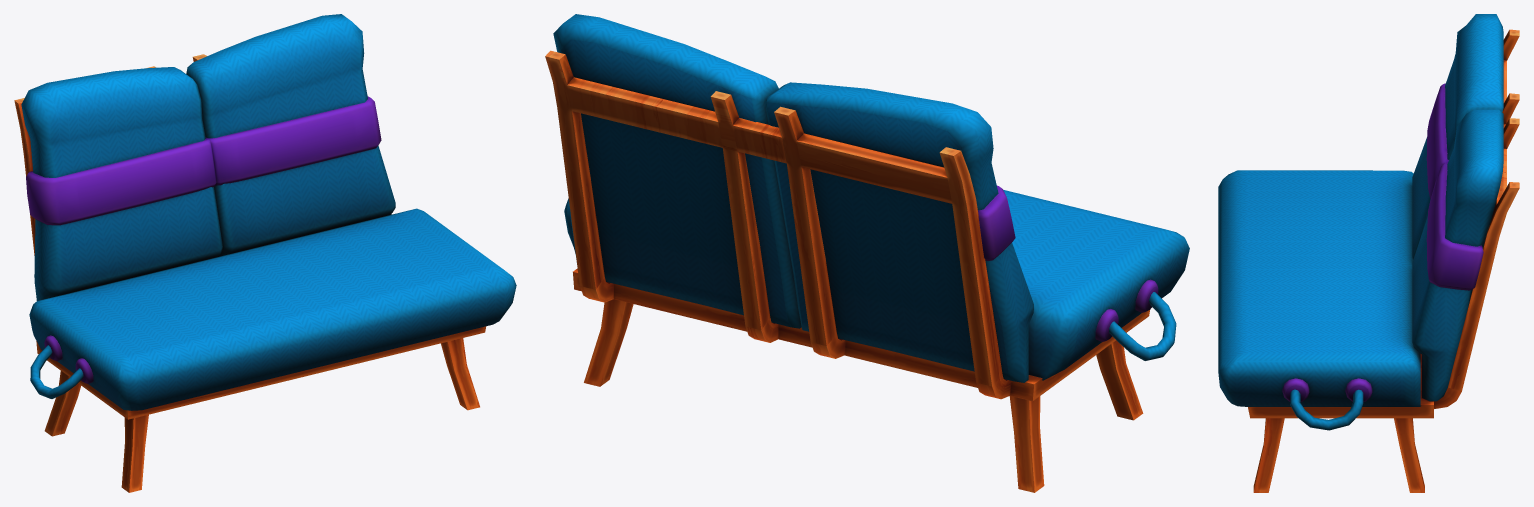
The model's file is ArmChair02.FBX.
The picture shows the model from 3 angles, left to right: view 1: azimuth 30°, elevation 25°; view 2: azimuth 150°, elevation 25°; view 3: azimuth 270°, elevation 25°; orthographic projection. The views are drawn at different scales.
Parts seen in each view (by area): view 1: ArmChair02; view 2: ArmChair02; view 3: ArmChair02.
Boxes of the visible parts, bbox=[...] form: ArmChair02: bbox=[14, 14, 516, 492]; ArmChair02: bbox=[545, 14, 1189, 492]; ArmChair02: bbox=[1218, 14, 1519, 492].
Size of what is drawn, in the model's own units: 1.56 by 1.03 by 0.8903.
